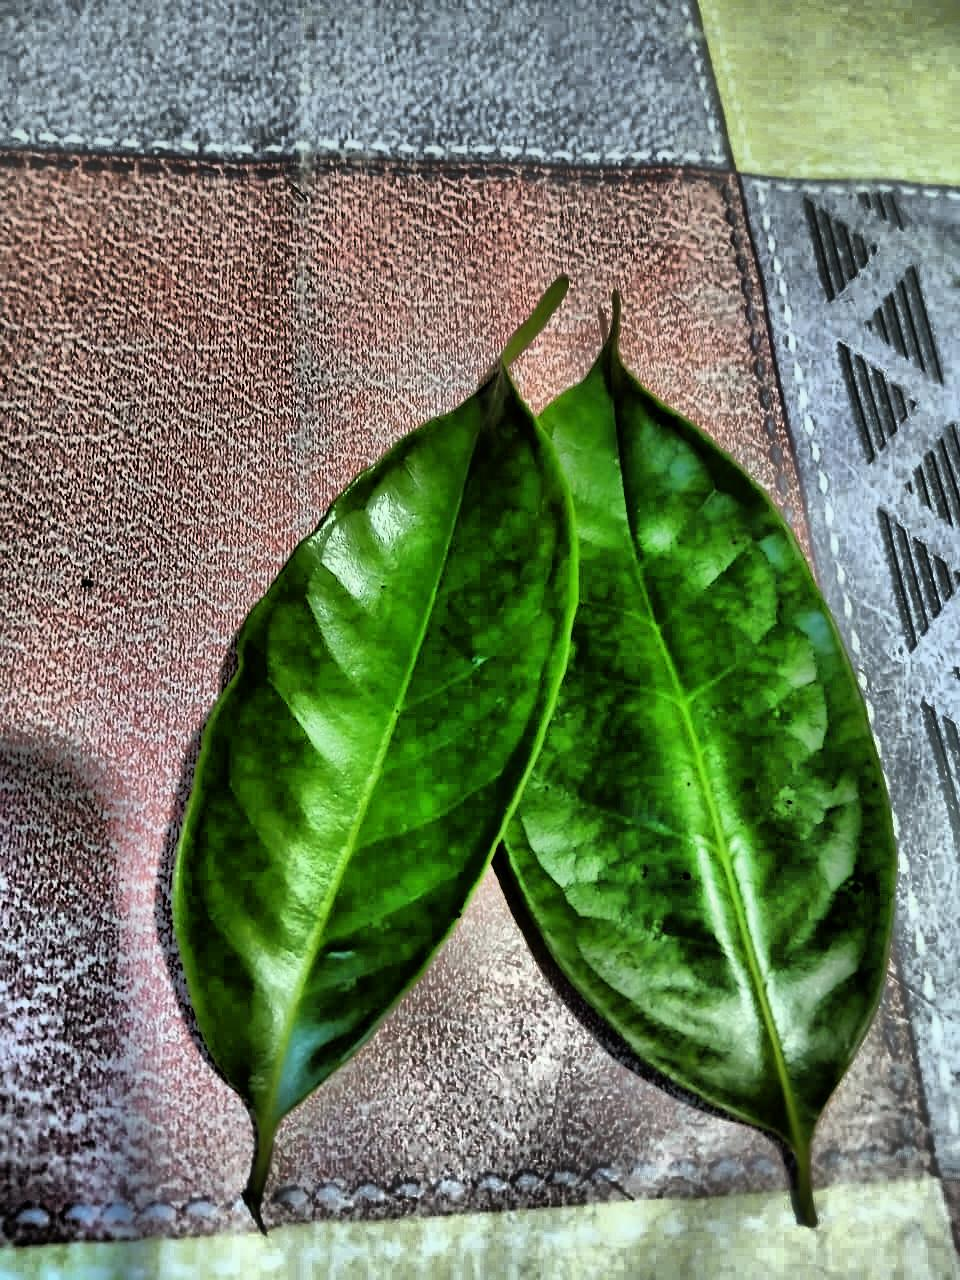daun salam: (175, 280, 894, 1224)
